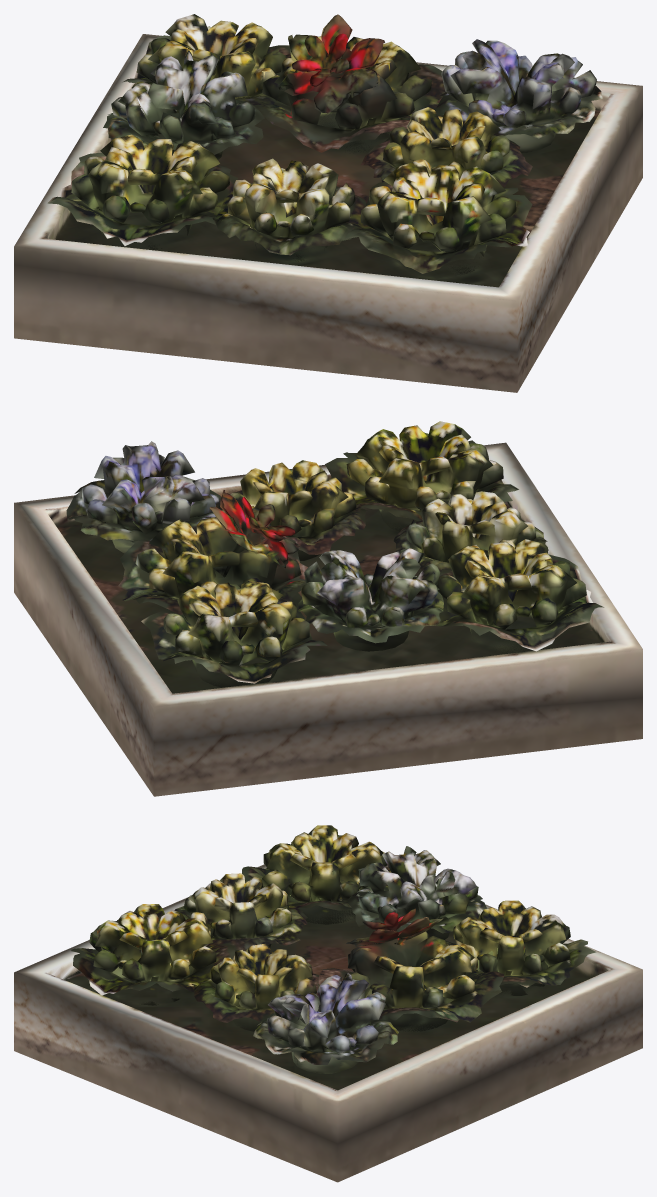
File: act1_kit_v1_garth_flower_bed.glb
The picture shows the model from 3 angles, top to bottom: view 1: azimuth 30°, elevation 25°; view 2: azimuth 150°, elevation 25°; view 3: azimuth 270°, elevation 25°; orthographic projection. The views are drawn at different scales.
Visible parts, largest first — view 1: act1_kit_v1_garth_flower_bed; view 2: act1_kit_v1_garth_flower_bed; view 3: act1_kit_v1_garth_flower_bed.
Boxes of the visible parts, x1,y1,x2,y2 form: act1_kit_v1_garth_flower_bed: (14, 14, 642, 392); act1_kit_v1_garth_flower_bed: (14, 421, 642, 796); act1_kit_v1_garth_flower_bed: (14, 825, 642, 1182).
Bounding box in the file's own units: 1 × 0.2804 × 1.
1 material, 1 textured.
